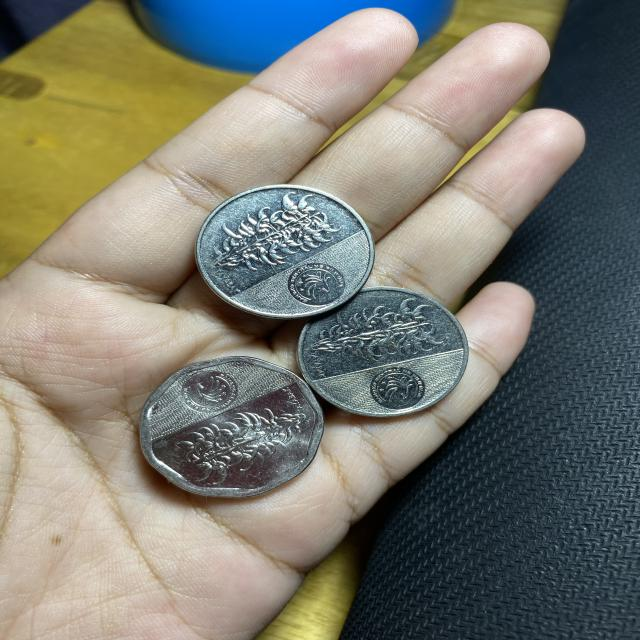5_New_Back: (164, 412, 309, 481), (219, 194, 329, 270), (316, 298, 424, 365)
